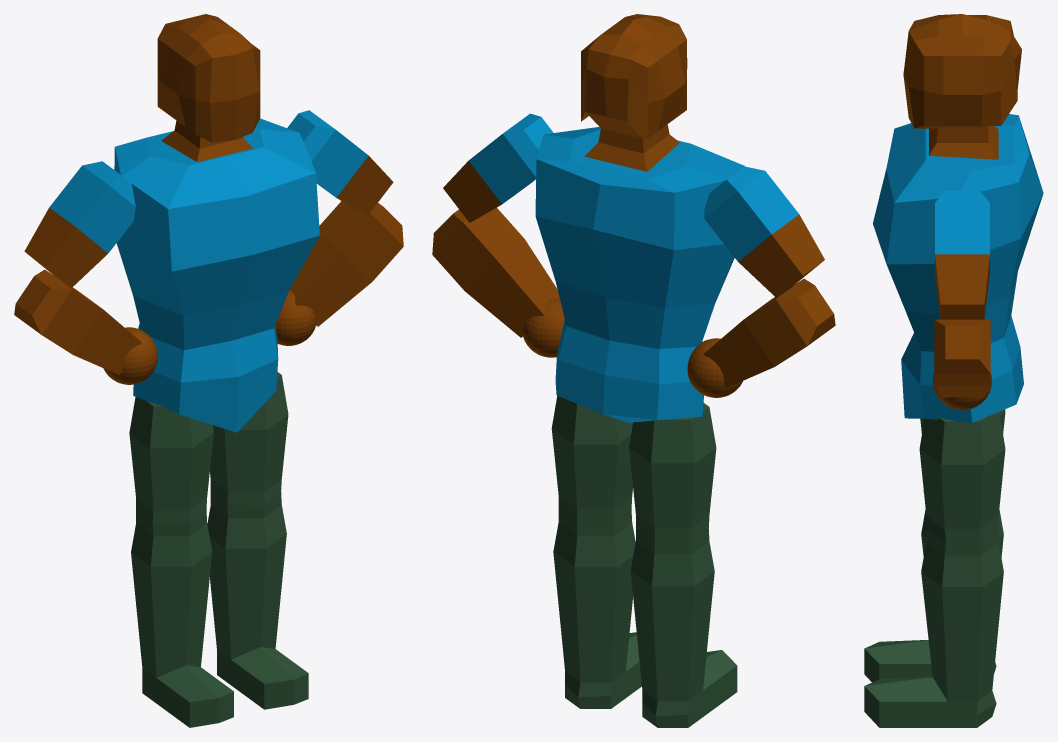
File: Hbody2.fbx
3 renders of one model, left to right at view 1: azimuth 30°, elevation 25°; view 2: azimuth 150°, elevation 25°; view 3: azimuth 270°, elevation 25°, orthographic. The views are drawn at different scales.
Parts seen in each view (by area): view 1: Cube, right, Left, Cube.001, Sphere.001, Sphere, Cube.003, Cube.006, Cube.002, Cube.004; view 2: Cube, right, Left, Cube.001, Sphere.001, Sphere, Cube.003, Cube.002, Cube.006, Cube.004; view 3: Left, Cube, Cube.001, Sphere.001, Cube.002, Cube.004, right.
Part boxes in pixels (left/top/right/bottom): Cube: left=114, top=118, right=319, bottom=432; right: left=129, top=397, right=233, bottom=727; Left: left=207, top=372, right=308, bottom=709; Cube.001: left=157, top=14, right=260, bottom=161; Sphere.001: left=275, top=201, right=403, bottom=345; Sphere: left=14, top=269, right=157, bottom=384; Cube.003: left=49, top=161, right=135, bottom=253; Cube.006: left=24, top=207, right=107, bottom=287; Cube.002: left=287, top=110, right=368, bottom=197; Cube.004: left=336, top=156, right=393, bottom=215; Cube: left=535, top=127, right=744, bottom=422; right: left=629, top=403, right=737, bottom=727; Left: left=551, top=396, right=641, bottom=708; Cube.001: left=581, top=14, right=687, bottom=171; Sphere.001: left=432, top=207, right=564, bottom=357; Sphere: left=687, top=278, right=835, bottom=397; Cube.003: left=704, top=166, right=799, bottom=261; Cube.002: left=468, top=113, right=553, bottom=204; Cube.006: left=738, top=214, right=824, bottom=297; Cube.004: left=443, top=161, right=501, bottom=222; Left: left=864, top=412, right=1005, bottom=727; Cube: left=873, top=114, right=1043, bottom=422; Cube.001: left=903, top=14, right=1021, bottom=159; Sphere.001: left=933, top=319, right=992, bottom=410; Cube.002: left=935, top=191, right=989, bottom=254; Cube.004: left=935, top=254, right=989, bottom=319; right: left=864, top=409, right=1005, bottom=682.
Size of the model in its own units: 992 by 1702 by 404.
